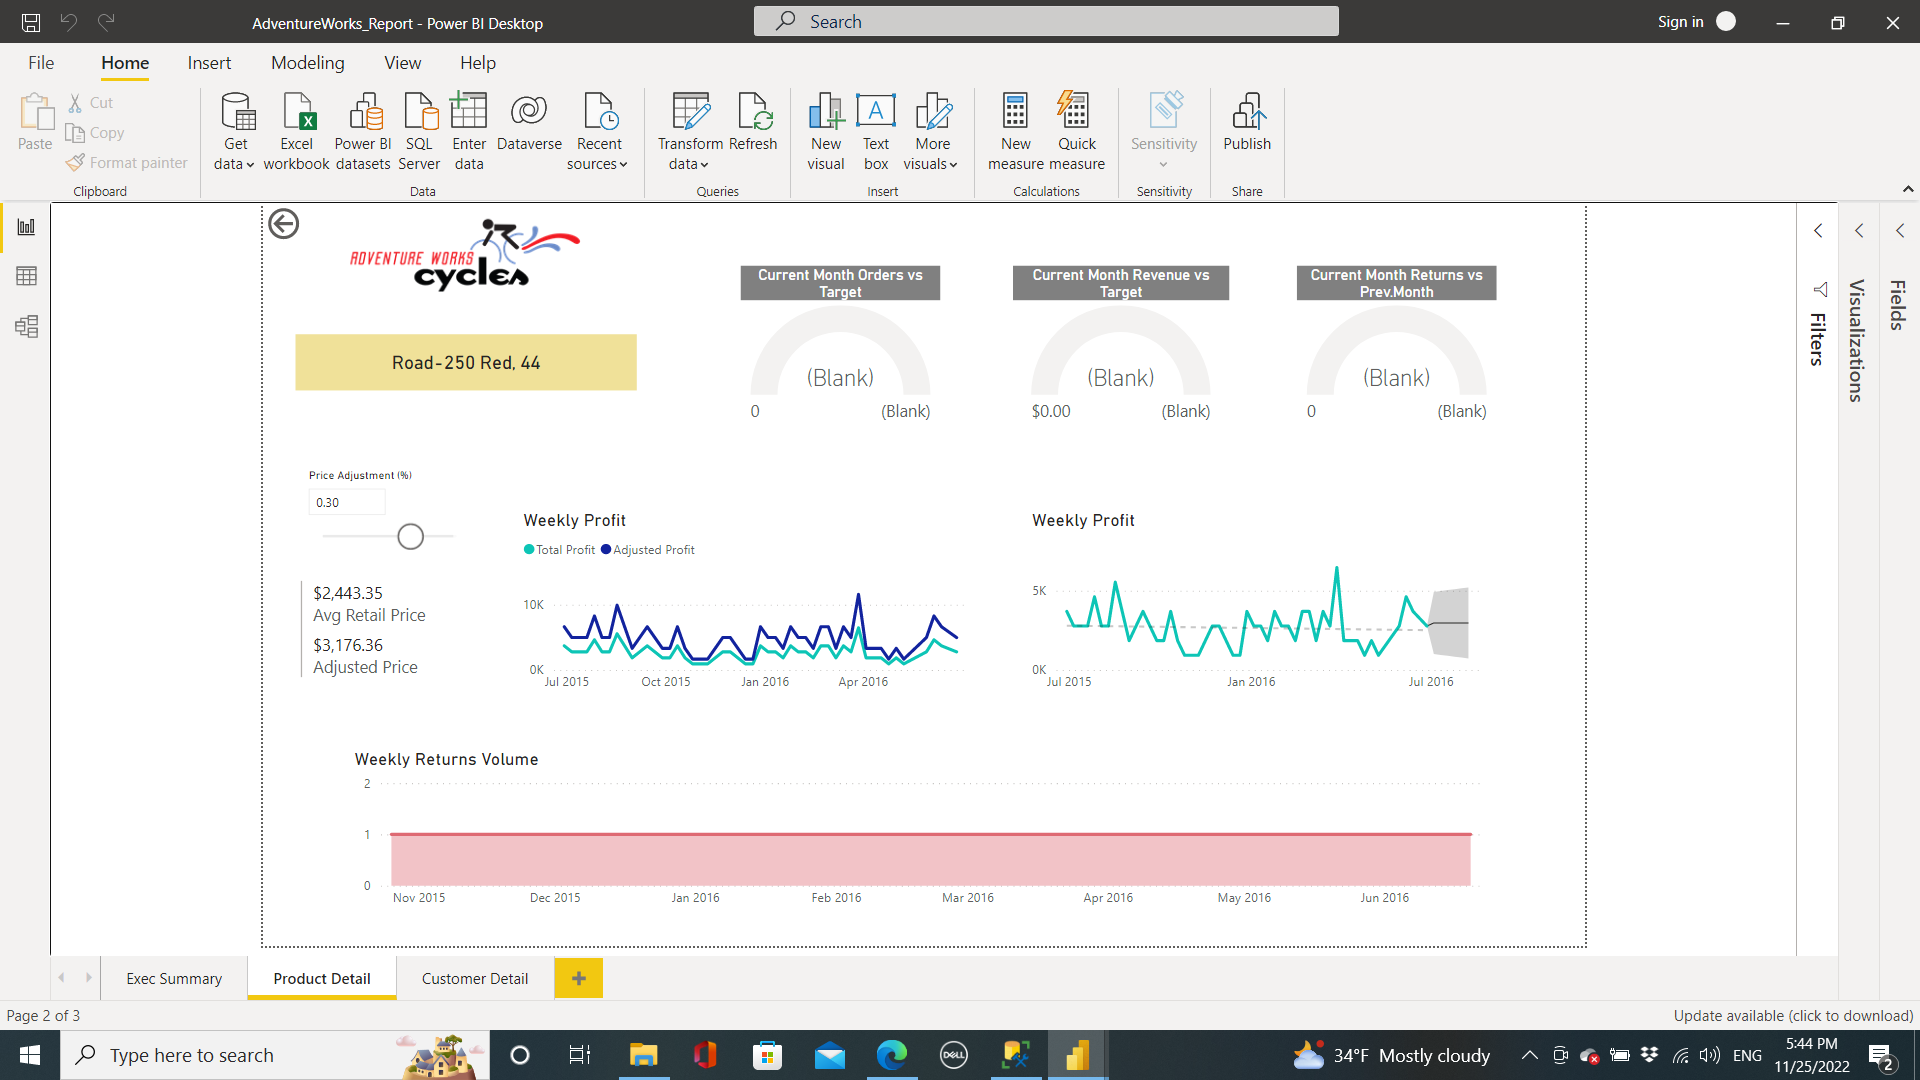

Layout of this report page (visuals, bound fields, positions):
{"tool":"powerbi","page":{"name":"Product Detail","canvas":[1280,720],"ordinal":1},"visuals":[{"type":"image","box":[79.9,9.7,234.8,81.1],"z":0},{"type":"lineChart","title":"Weekly Profit","fields":{"Y":["AW_Sales.Total Profit"],"Category":["AW_Calendar_Lookup.Start of Week"]},"box":[739.4,296.5,455,186.4],"z":1000},{"type":"stackedAreaChart","title":"Weekly Returns Volume","fields":{"Category":["AW_Calendar_Lookup.Start of Week"],"Y":["AW_Returns.Total Returns"]},"box":[83.5,527.6,1114.5,164.6],"z":2000},{"type":"gauge","title":"Current Month Orders vs Target","fields":{"Y":["AW_Sales.Total Orders"],"MaxValue":["AW_Sales.Order Target"]},"box":[462.3,60.5,193.6,162.2],"z":3000},{"type":"gauge","title":"Current Month Revenue vs Target","fields":{"Y":["AW_Sales.Total Revenue"],"MaxValue":["AW_Sales.Revenue Target"]},"box":[726.1,60.5,209.3,162.2],"z":4000},{"type":"gauge","title":"Current Month Returns vs Prev.Month","fields":{"Y":["AW_Returns.Total Returns"],"MaxValue":["AW_Returns.Prev Months Returns"]},"box":[1000.7,60.5,193.6,162.2],"z":5000},{"type":"card","fields":{"Values":["Min(AW_Product_Lookup.ProductName)"]},"box":[31.5,127.1,330.4,54.5],"z":6000},{"type":"actionButton","box":[0,0,100,40],"z":7000},{"type":"slicer","fields":{"Values":["Price Adjustment (%).Price Adjustment (%)"]},"box":[31.5,251.7,176.7,108.9],"z":8000},{"type":"multiRowCard","fields":{"Values":["AW_Product_Lookup.Avg Retail Price","AW_Product_Lookup.Adjusted Price"]},"box":[31.5,360.6,193.6,139.2],"z":9000},{"type":"lineChart","title":"Weekly Profit","fields":{"Y":["AW_Sales.Total Profit","AW_Sales.Adjusted Profit"],"Category":["AW_Calendar_Lookup.Start of Week"]},"box":[246.9,296.5,455,186.4],"z":10000}]}

Visuals, with their boxes on the page's 1280x720 design canvas (x1, y1, x2, y2). These are canvas units, not pixel positions in the 1920x1080 screenshot, which may show the page scaled, cropped or inside an application window:
image: left=80, top=10, right=315, bottom=91
"Weekly Profit" lineChart: left=739, top=296, right=1194, bottom=483
"Weekly Returns Volume" stackedAreaChart: left=84, top=528, right=1198, bottom=692
"Current Month Orders vs Target" gauge: left=462, top=60, right=656, bottom=223
"Current Month Revenue vs Target" gauge: left=726, top=60, right=935, bottom=223
"Current Month Returns vs Prev.Month" gauge: left=1001, top=60, right=1194, bottom=223
card - Min(AW_Product_Lookup.ProductName): left=32, top=127, right=362, bottom=182
actionButton: left=0, top=0, right=100, bottom=40
slicer - Price Adjustment (%).Price Adjustment (%): left=32, top=252, right=208, bottom=361
multiRowCard - AW_Product_Lookup.Avg Retail Price x AW_Product_Lookup.Adjusted Price: left=32, top=361, right=225, bottom=500
"Weekly Profit" lineChart: left=247, top=296, right=702, bottom=483
